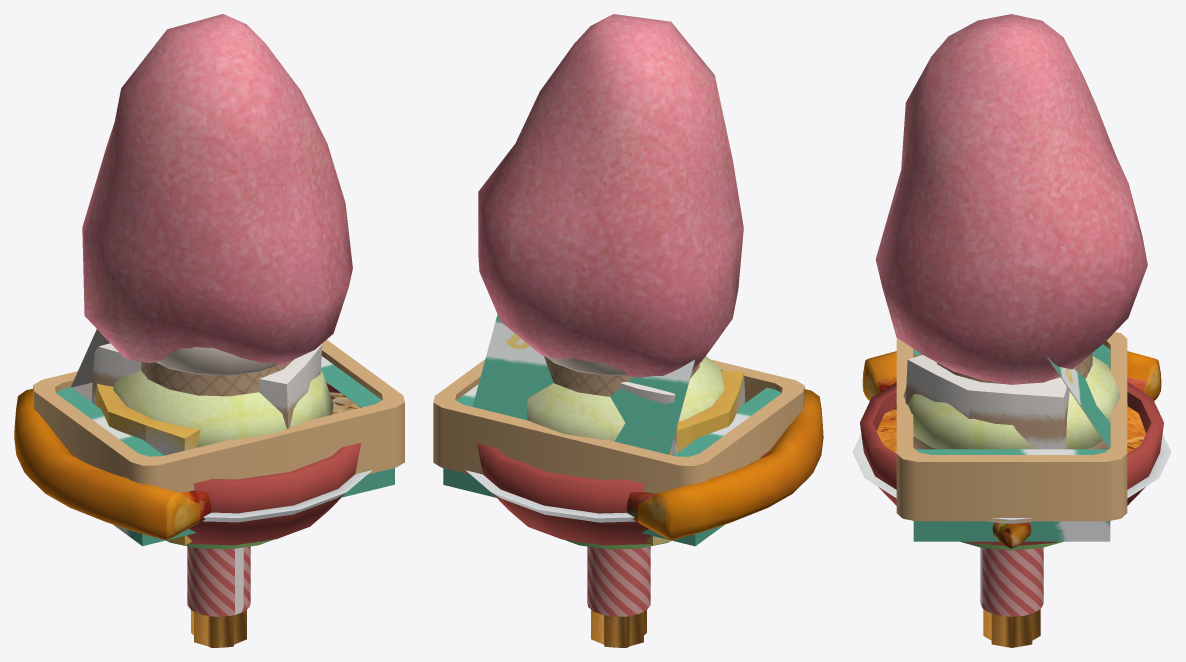
The model's file is Food_2.fbx.
3 renders of one model, left to right at view 1: azimuth 30°, elevation 25°; view 2: azimuth 150°, elevation 25°; view 3: azimuth 270°, elevation 25°, orthographic.
Parts seen in each view (by area): view 1: Food_candyfluff, Food_lunch, Food_pizza, Food_Nachos, Food_melonpan, Food_churros, Food_cake, Food_icecream, Food_snackbox, Food_cheese; view 2: Food_candyfluff, Food_lunch, Food_snackbox, Food_pizza, Food_Nachos, Food_churros, Food_melonpan, Food_cheese, Food_icecream, Food_cake; view 3: Food_candyfluff, Food_lunch, Food_cake, Food_melonpan, Food_snackbox, Food_Nachos, Food_churros, Food_pizza.
Part boxes in pixels (bbox=[...]): Food_candyfluff: bbox=[82, 14, 352, 364]; Food_lunch: bbox=[33, 339, 404, 492]; Food_pizza: bbox=[14, 388, 211, 540]; Food_Nachos: bbox=[187, 382, 361, 545]; Food_melonpan: bbox=[113, 370, 333, 447]; Food_churros: bbox=[187, 546, 250, 647]; Food_cake: bbox=[91, 343, 372, 522]; Food_icecream: bbox=[141, 347, 293, 396]; Food_snackbox: bbox=[56, 329, 394, 546]; Food_cheese: bbox=[95, 383, 200, 545]; Food_candyfluff: bbox=[478, 14, 743, 377]; Food_lunch: bbox=[433, 359, 804, 493]; Food_snackbox: bbox=[443, 314, 781, 546]; Food_pizza: bbox=[626, 389, 823, 540]; Food_Nachos: bbox=[477, 443, 650, 545]; Food_churros: bbox=[587, 546, 650, 647]; Food_melonpan: bbox=[527, 356, 724, 441]; Food_cheese: bbox=[645, 371, 745, 545]; Food_icecream: bbox=[544, 354, 699, 396]; Food_cake: bbox=[466, 382, 677, 522]; Food_candyfluff: bbox=[875, 14, 1147, 384]; Food_lunch: bbox=[896, 332, 1127, 521]; Food_cake: bbox=[852, 354, 1171, 523]; Food_melonpan: bbox=[903, 356, 1120, 449]; Food_snackbox: bbox=[913, 344, 1110, 541]; Food_Nachos: bbox=[860, 382, 1163, 545]; Food_churros: bbox=[980, 547, 1043, 647]; Food_pizza: bbox=[862, 351, 1161, 548].
Size of the model in its own units: 0.1508 by 0.2737 by 0.1287.
2 materials, 2 textured.
